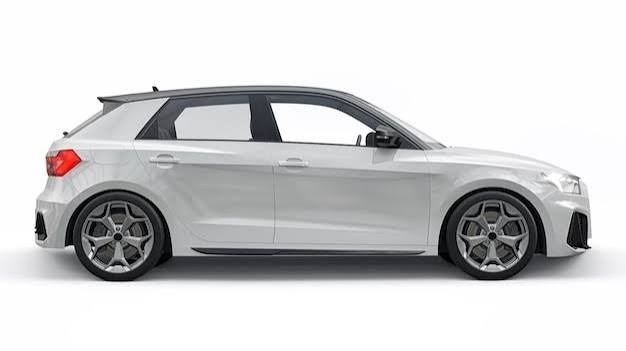car: (30, 74, 596, 281)
